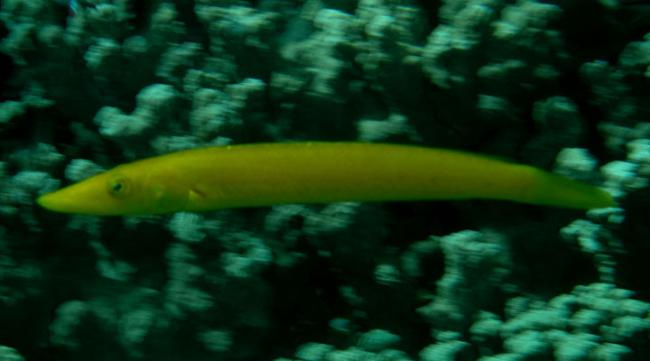fish: (38, 140, 617, 217)
